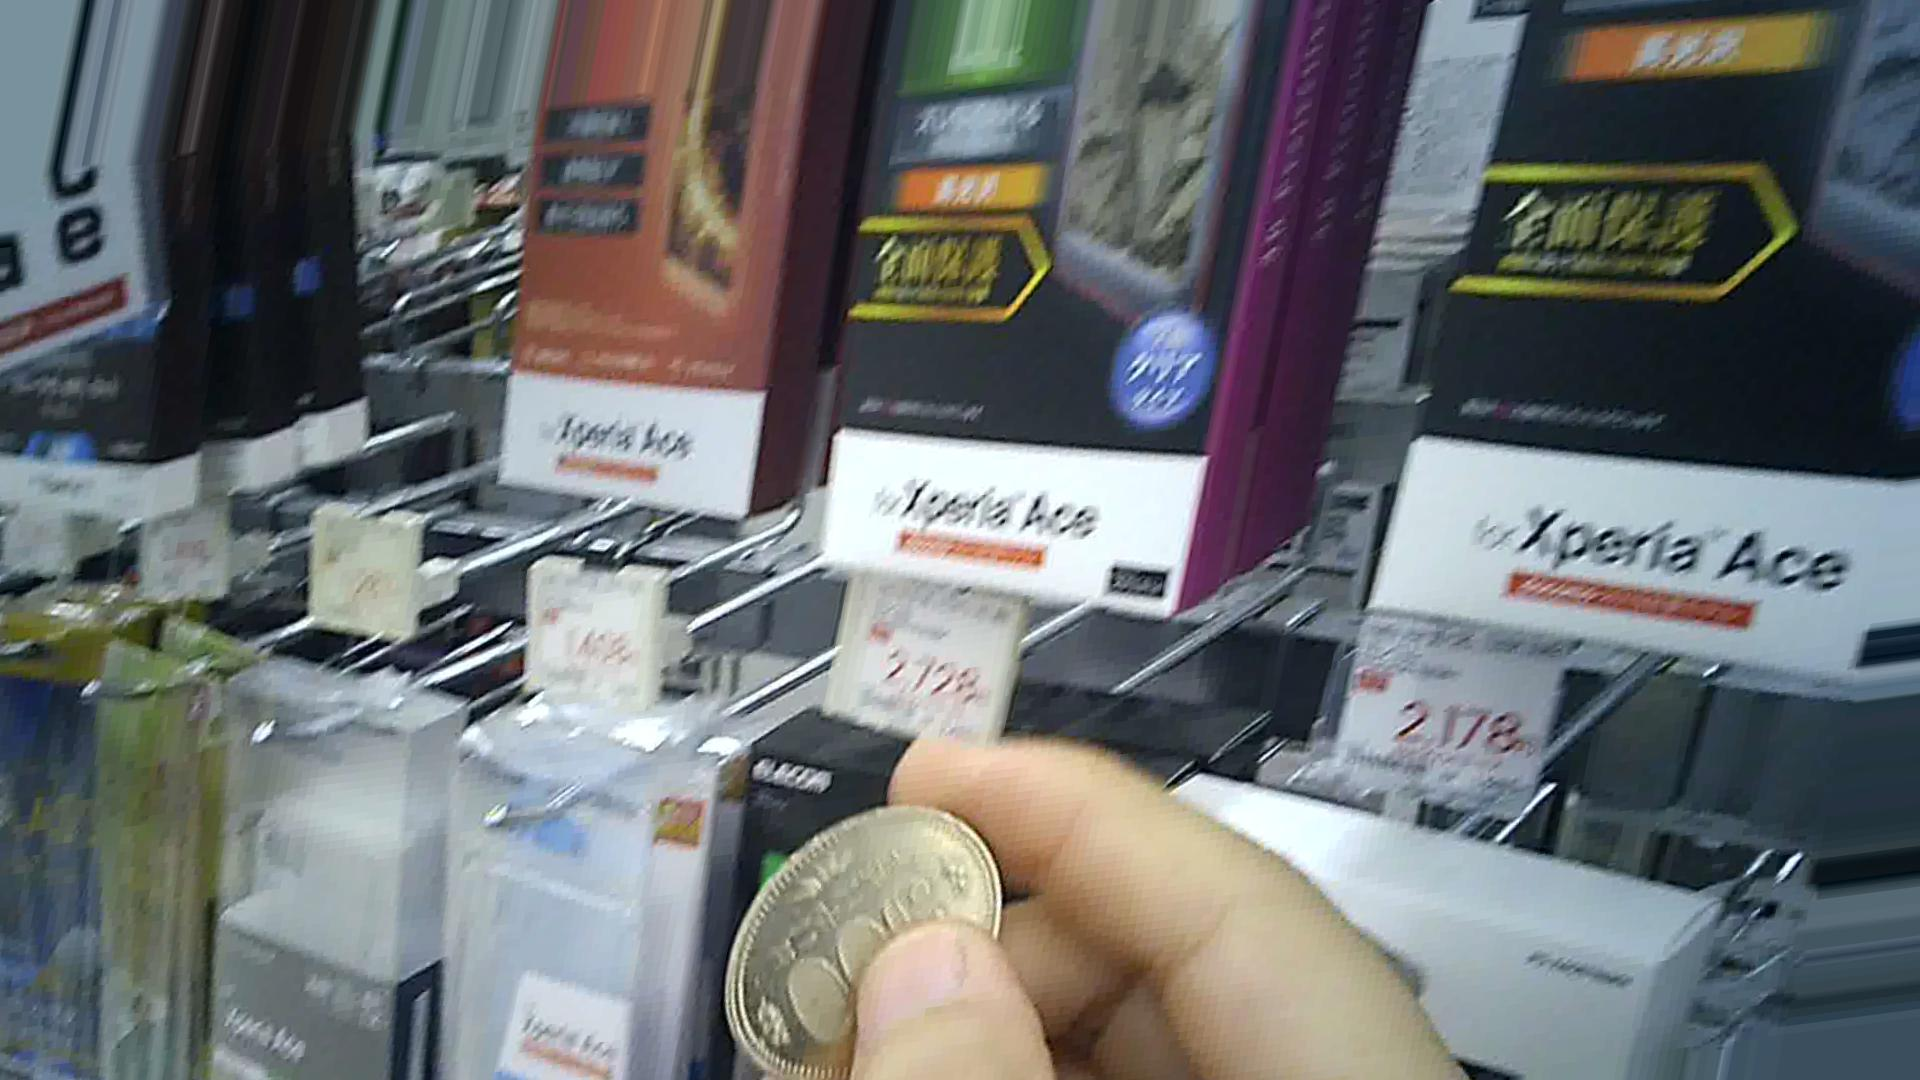500 Yen: (732, 790, 988, 1079)
